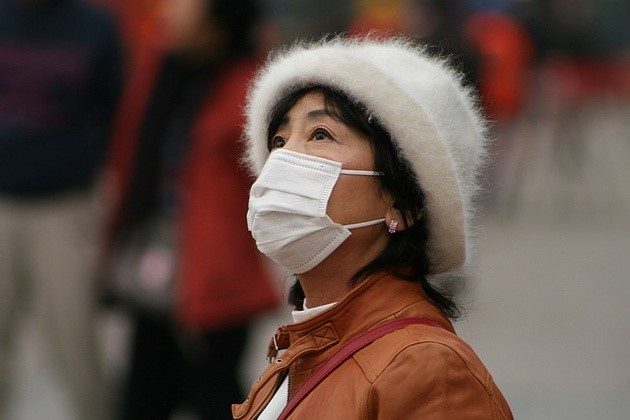face_with_mask: (234, 83, 426, 282)
